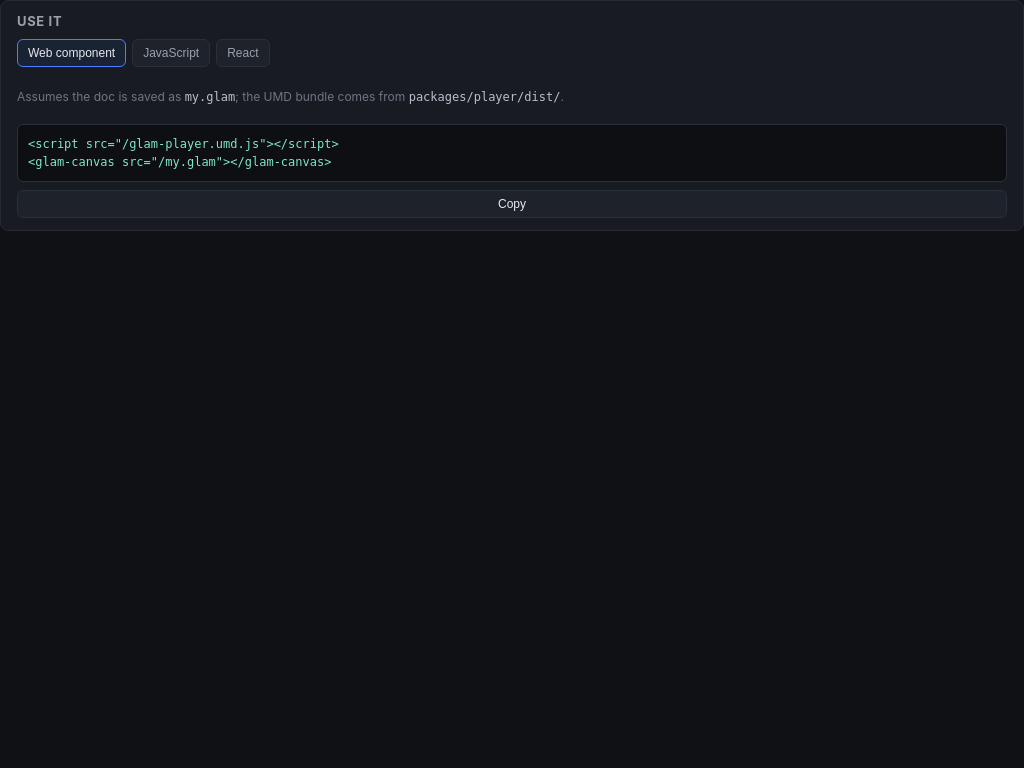
JavaScript tab shows renderGlamour snippet with the doc canvas width inlined
Step 1. Click the tab "JavaScript" → (171, 53), box [132, 39, 210, 67]
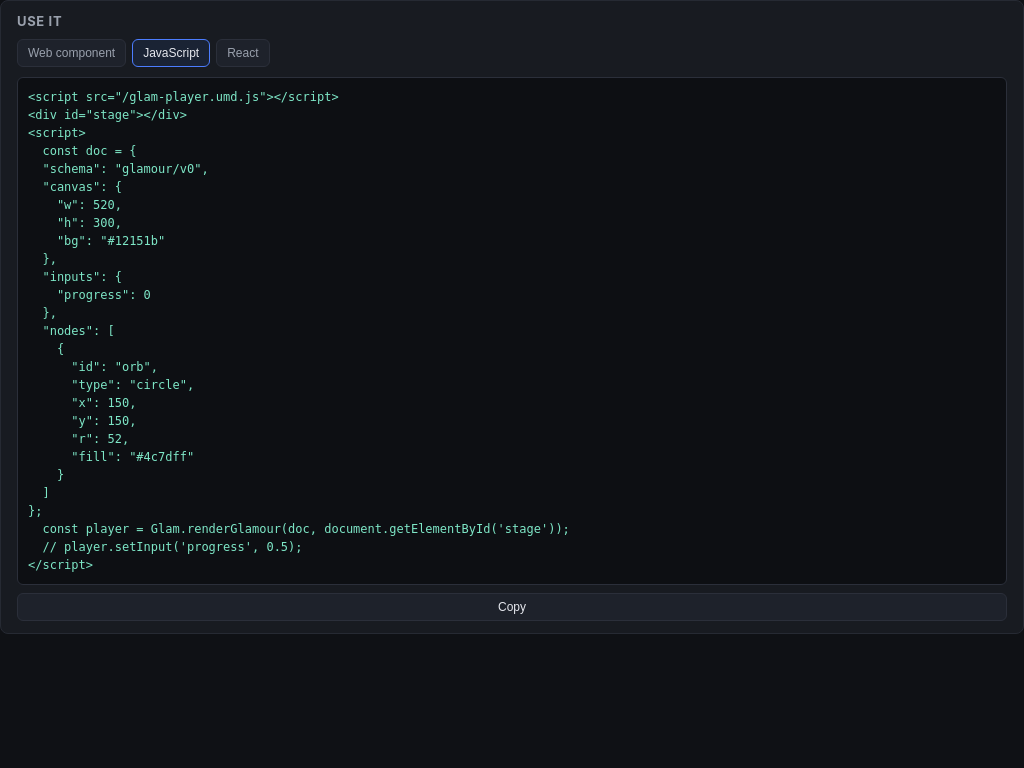
Expected: the text "Glam.renderGlamour" is shown, [28, 90, 570, 572]
Expected: the text "Glam.renderGlamour" shows "\"w\": 520", [28, 90, 570, 572]
